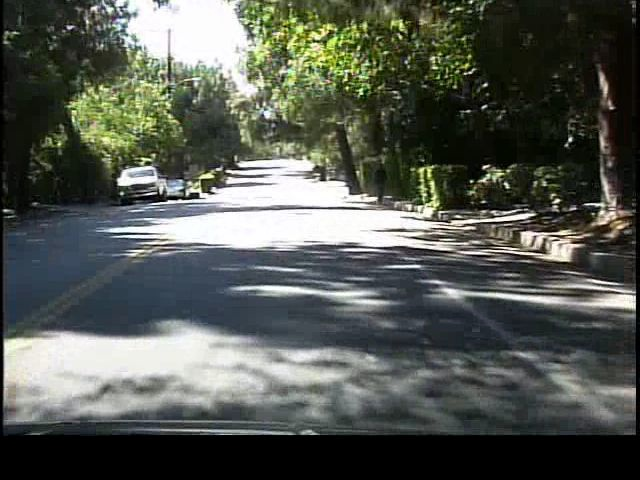person: (372, 155, 391, 207)
